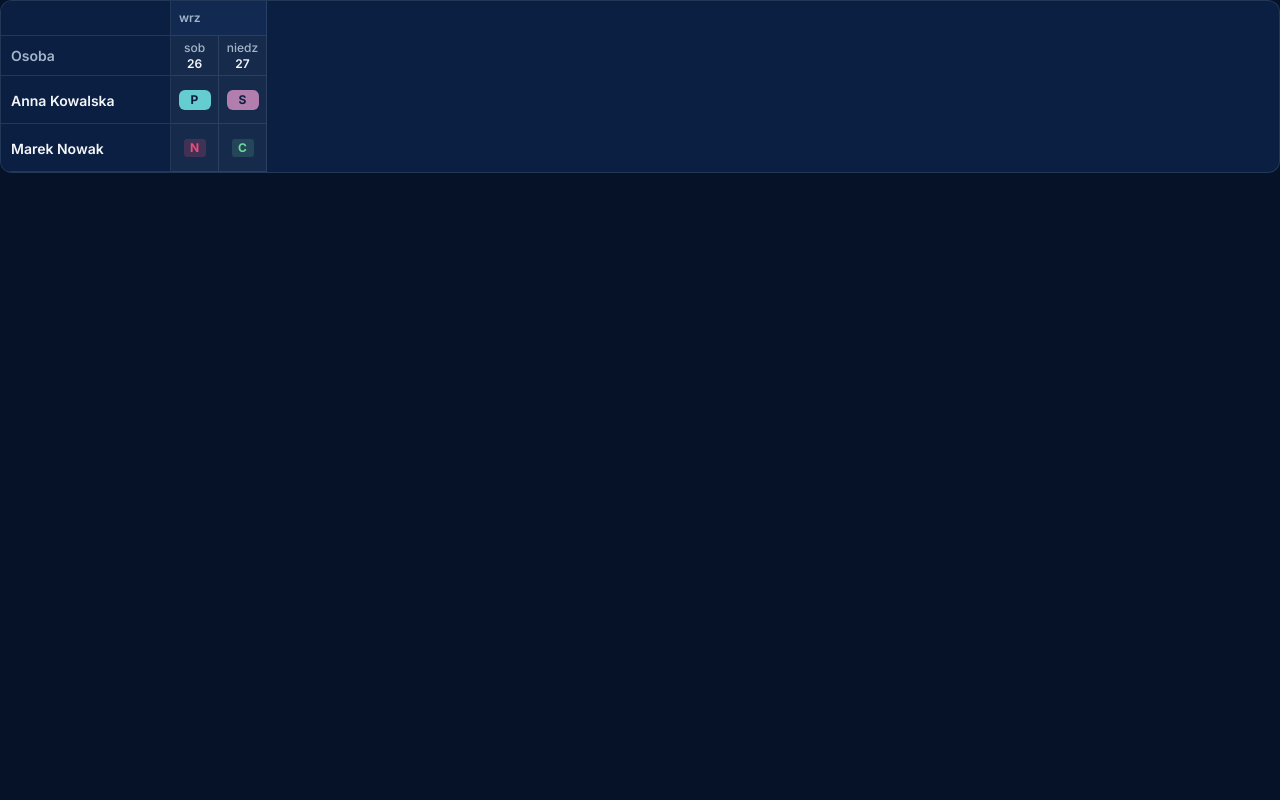
Test: DraftScheduleMatrix inspector › warns that an unavailable person will be refused and offers no day shift on a day off
The width and height of the screenshot is (1280, 800).
Click the button named "Marek Nowak, sob 26-09-2026" at (194, 148), box [171,124,218,171]
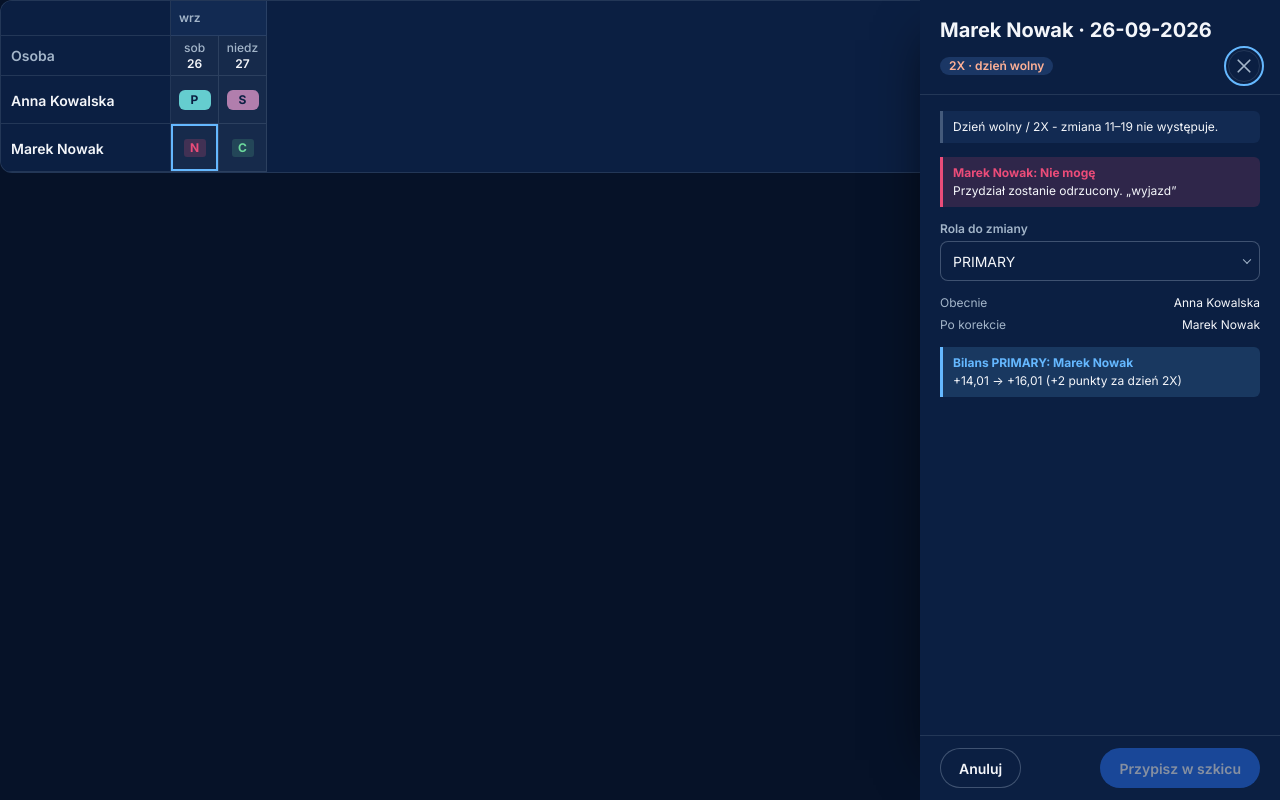
Result: the text "2X · dzień wolny" is shown at [940,57,1053,75]
Result: the text "Dzień wolny / 2X - zmiana 11–19 nie występuje." is shown at [940,111,1260,143]
Result: the text "Marek Nowak: Nie mogę" shows "Przydział zostanie odrzucony. „wyjazd”" at [940,157,1260,207]
